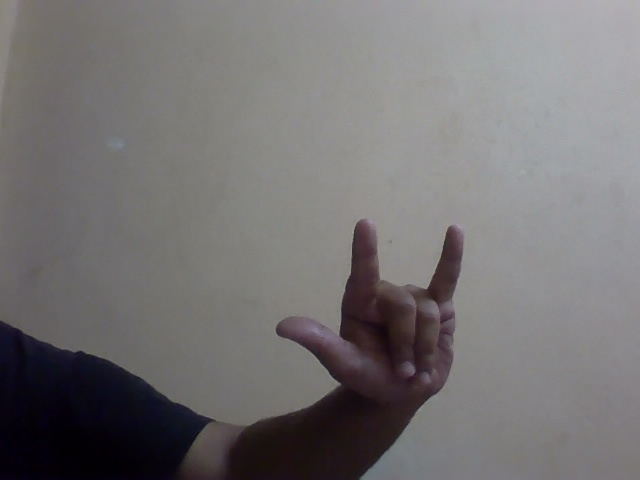I love you: (270, 213, 498, 417)
